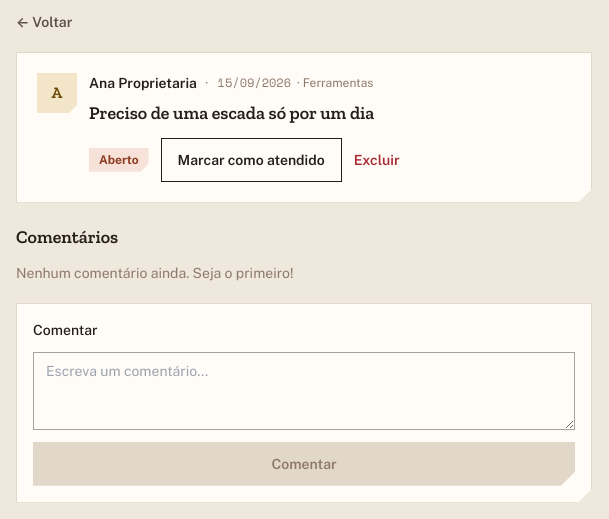
PostDetalhePage › permite ao autor marcar o pedido como atendido
This screenshot has width=609, height=519.
Expected: the text "Preciso de uma escada só por um dia" is shown, [89,102,374,124]
Click the button "Marcar como atendido" at (251, 160), box [160,138,342,182]
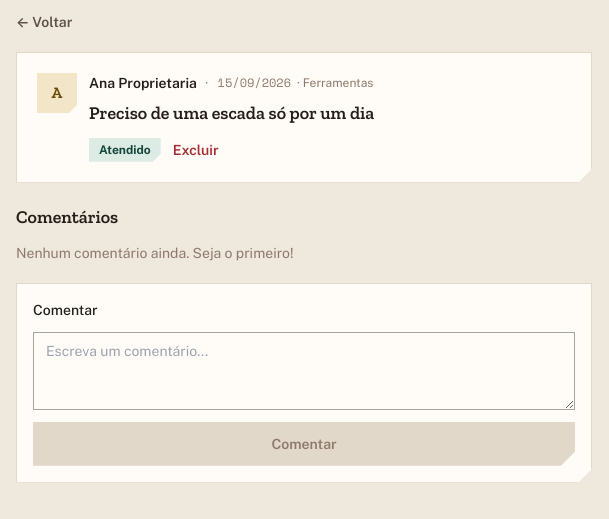
Expected: the text "Atendido" is shown, [89,138,161,162]
Expected: the button "Marcar como atendido" is gone
